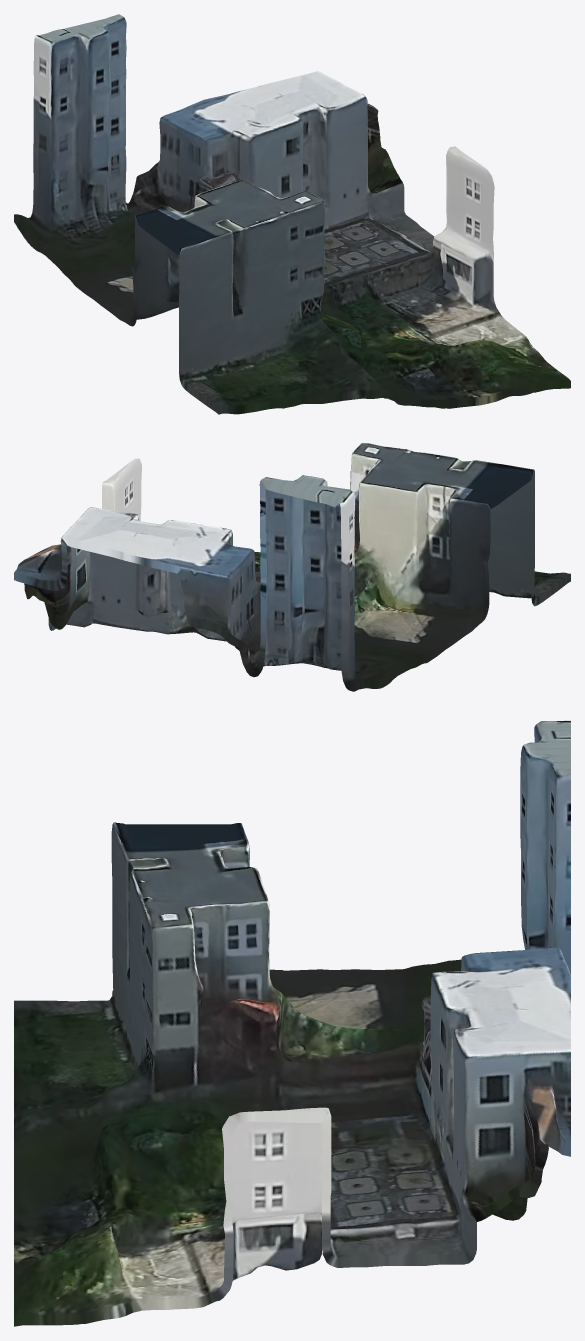
The model's file is z20-167726-405196-h0-yup-uvflip-v3-world.glb.
3 views of the same model, one above another, from view 1: azimuth 30°, elevation 25°; view 2: azimuth 150°, elevation 25°; view 3: azimuth 270°, elevation 25° (orthographic). The views are drawn at different scales.
Size of the model in its own units: 30.16 by 23.32 by 30.32.
Materials: 1 (1 with a texture image).
